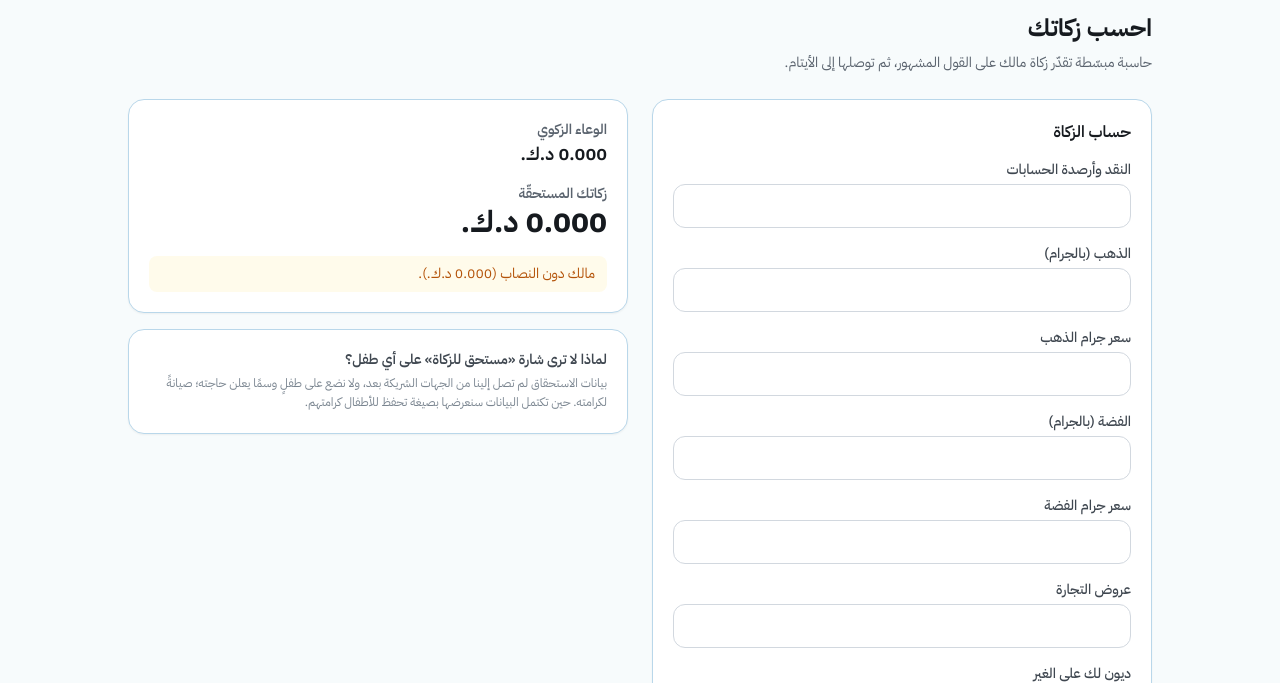
Test: DonorZakatPage — the calculator › marks a non-numeric field with a message and aria-invalid
Type "abc" into the field labelled "النقد وأرصدة الحسابات".
click(902, 206); type("abc")  # box [673,184,1131,228]
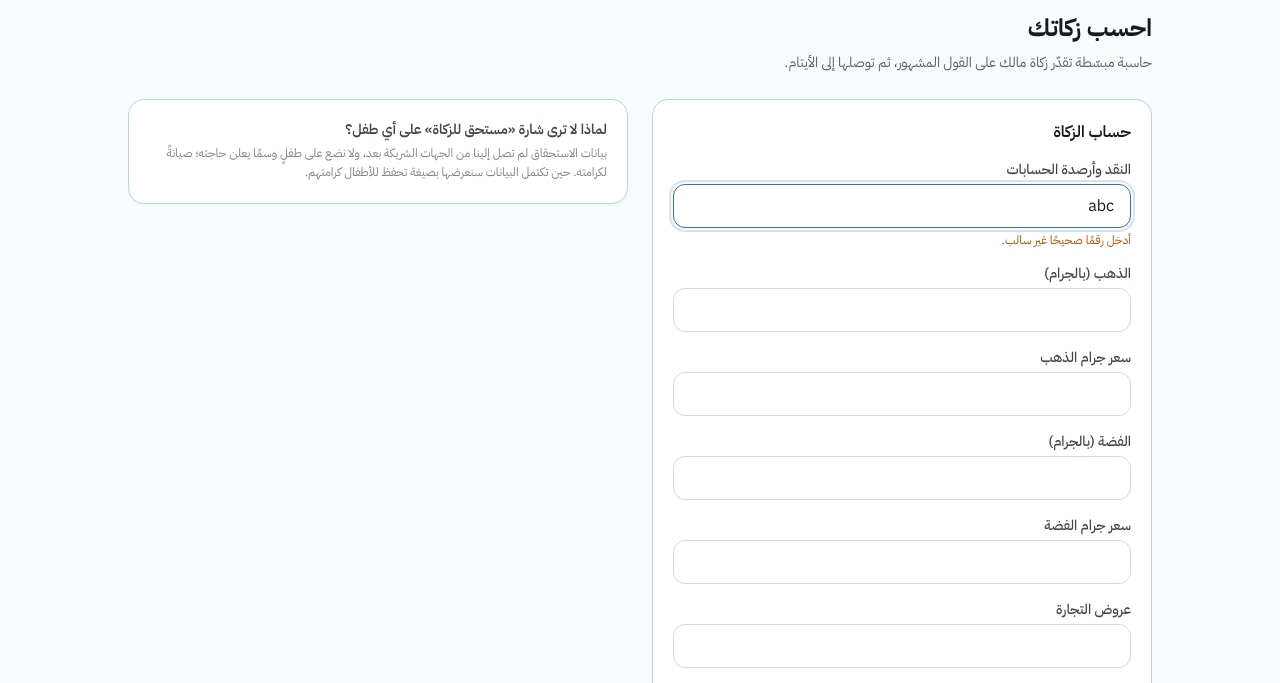
Result: the text "أدخل رقمًا صحيحًا غير سالب." is shown at [1002,231,1131,249]
